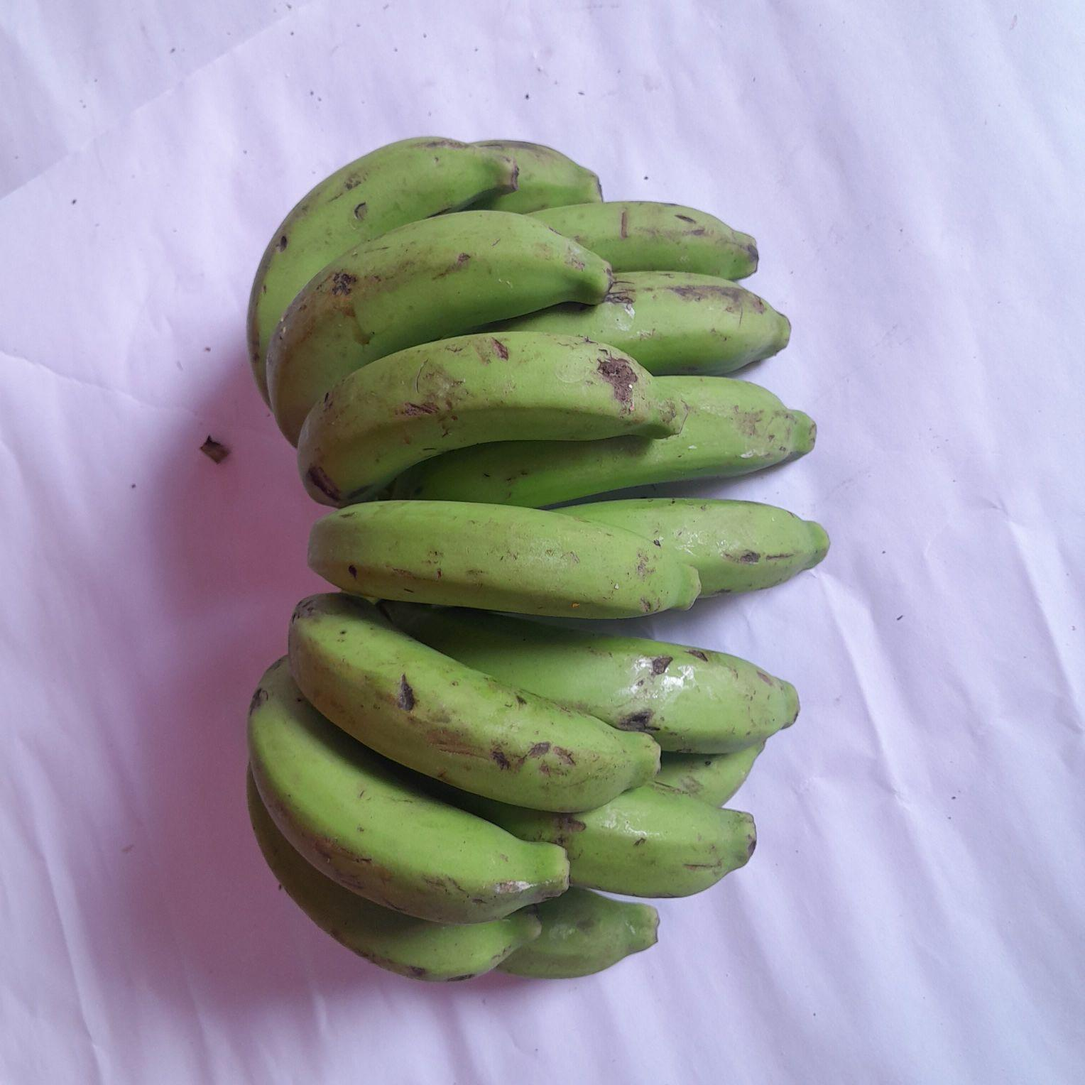Banana Unripe: (248, 659, 570, 924), (288, 593, 659, 812), (267, 212, 612, 441), (248, 138, 517, 402), (299, 331, 687, 506), (381, 602, 799, 754), (248, 770, 542, 981), (390, 377, 816, 506), (307, 500, 701, 618), (453, 782, 757, 899), (487, 271, 790, 375), (557, 498, 831, 598), (530, 201, 759, 280), (498, 888, 659, 979), (473, 140, 602, 213), (655, 742, 765, 807)
